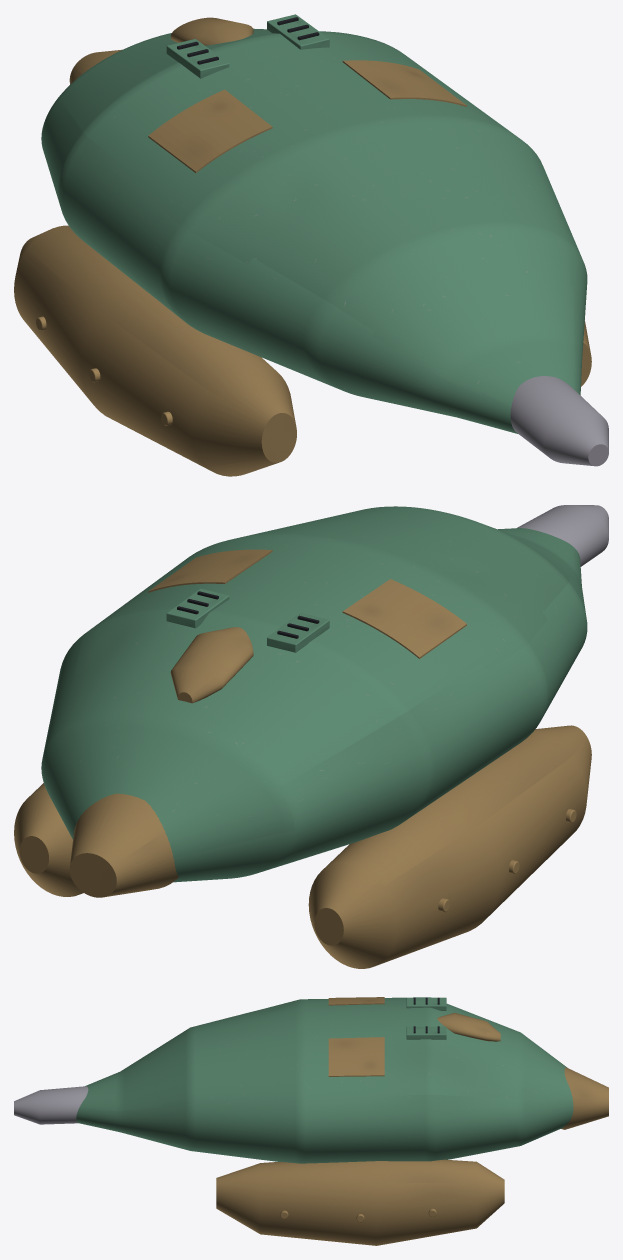
3 views of the same model, one above another, from view 1: azimuth 30°, elevation 25°; view 2: azimuth 150°, elevation 25°; view 3: azimuth 270°, elevation 25° (orthographic). The views are drawn at different scales.
Visible parts, largest first — view 1: Delphini Assault rounded green hull, Delphini Assault brown ventral body -1, Delphini Assault narrow fore projection, Delphini Assault gold upper patch -1, Delphini Assault gold upper patch 1, Delphini Assault small gold dorsal crest, Delphini Assault green service cover -1, Delphini Assault green service cover 1; view 2: Delphini Assault rounded green hull, Delphini Assault brown ventral body -1, Delphini Assault brown tail detail, Delphini Assault gold upper patch -1, Delphini Assault brown ventral body 1, Delphini Assault small gold dorsal crest, Delphini Assault narrow fore projection, Delphini Assault gold upper patch 1, Delphini Assault green service cover -1, Delphini Assault green service cover 1; view 3: Delphini Assault rounded green hull, Delphini Assault brown ventral body 1, Delphini Assault gold upper patch 1, Delphini Assault narrow fore projection, Delphini Assault brown tail detail, Delphini Assault small gold dorsal crest, Delphini Assault green service cover 1, Delphini Assault gold upper patch -1, Delphini Assault green service cover -1.
Part boxes in pixels (box(x1,y1,x2,y2)): Delphini Assault rounded green hull: box(41, 28, 587, 433); Delphini Assault brown ventral body -1: box(14, 225, 296, 476); Delphini Assault narrow fore projection: box(510, 376, 608, 466); Delphini Assault gold upper patch -1: box(148, 89, 272, 172); Delphini Assault gold upper patch 1: box(342, 60, 466, 106); Delphini Assault small gold dorsal crest: box(170, 17, 253, 45); Delphini Assault green service cover -1: box(166, 39, 229, 78); Delphini Assault green service cover 1: box(267, 14, 329, 49); Delphini Assault rounded green hull: box(41, 506, 587, 882); Delphini Assault brown ventral body -1: box(308, 725, 591, 968); Delphini Assault brown tail detail: box(69, 793, 178, 897); Delphini Assault gold upper patch -1: box(342, 579, 466, 658); Delphini Assault brown ventral body 1: box(14, 783, 83, 896); Delphini Assault small gold dorsal crest: box(170, 627, 253, 703); Delphini Assault narrow fore projection: box(516, 505, 608, 566); Delphini Assault gold upper patch 1: box(148, 549, 272, 592); Delphini Assault green service cover -1: box(267, 613, 329, 652); Delphini Assault green service cover 1: box(166, 588, 229, 628); Delphini Assault rounded green hull: box(76, 997, 573, 1163); Delphini Assault brown ventral body 1: box(216, 1159, 504, 1245); Delphini Assault gold upper patch 1: box(328, 1037, 384, 1076); Delphini Assault narrow fore projection: box(14, 1086, 88, 1124); Delphini Assault brown tail detail: box(561, 1067, 608, 1129); Delphini Assault small gold dorsal crest: box(437, 1012, 500, 1041); Delphini Assault green service cover 1: box(406, 1026, 446, 1039); Delphini Assault gold upper patch -1: box(328, 997, 384, 1005); Delphini Assault green service cover -1: box(406, 997, 446, 1010).
Bounding box in the file's own units: 1.44 × 1.02 × 2.97.
Materials: 5 (2 with a texture image).
